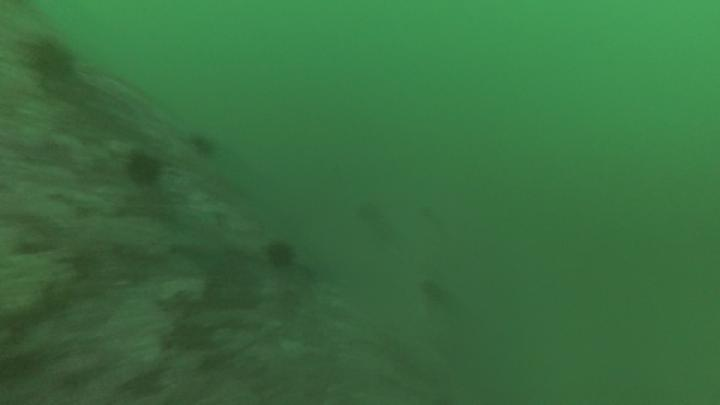echinus: (32, 38, 75, 82), (128, 154, 161, 183), (265, 239, 292, 265)
